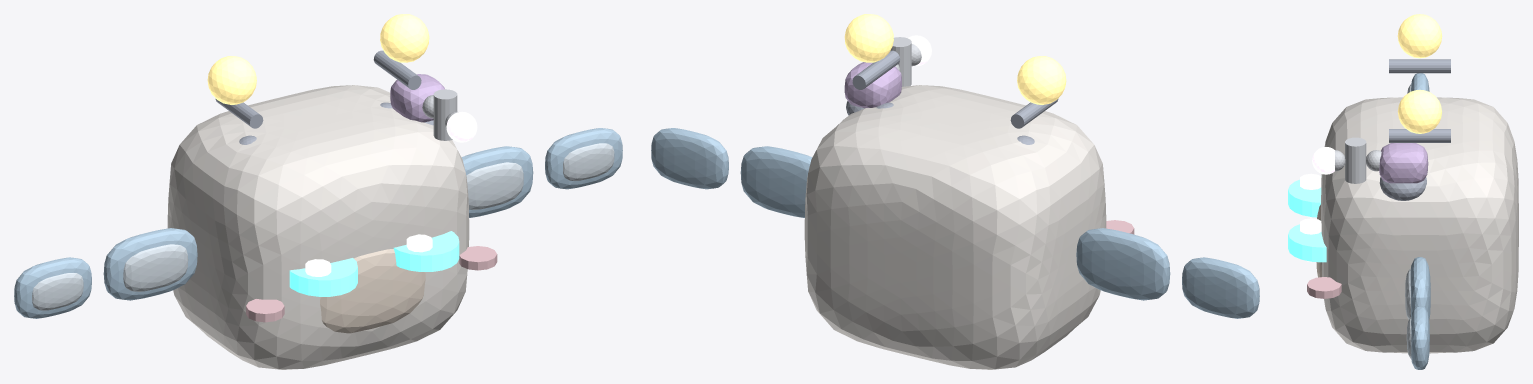
Rendered from pet_stage3_laser.glb.
3 renders of one model, left to right at view 1: azimuth 30°, elevation 25°; view 2: azimuth 150°, elevation 25°; view 3: azimuth 270°, elevation 25°, orthographic. The views are drawn at different scales.
Visible parts, largest first — view 1: d1, d2, d18, d19, d20, d24, d23, d17, d14, d22, d3, d6 (+9 smaller); view 2: d1, d18, d22, d20, d24, d17, d14, d28, d29, d16, d13; view 3: d1, d28, d14, d17, d29, d24, d6, d22, d13, d3, d16, d27 (+6 smaller).
Boxes of the visible parts, <box> form: d1: <box>167,85,469,369</box>; d2: <box>320,249,425,333</box>; d18: <box>103,228,197,300</box>; d19: <box>123,244,188,291</box>; d20: <box>14,257,91,318</box>; d24: <box>545,128,622,189</box>; d23: <box>466,162,523,209</box>; d17: <box>380,14,429,62</box>; d14: <box>207,56,256,104</box>; d22: <box>461,146,533,217</box>; d3: <box>289,258,357,296</box>; d6: <box>393,231,459,271</box>; d1: <box>804,85,1106,369</box>; d18: <box>1076,228,1170,300</box>; d22: <box>740,146,812,217</box>; d20: <box>1182,257,1259,318</box>; d24: <box>651,128,728,189</box>; d17: <box>844,14,893,62</box>; d14: <box>1017,56,1066,104</box>; d28: <box>844,62,901,108</box>; d29: <box>890,37,921,86</box>; d16: <box>852,50,900,89</box>; d13: <box>1010,99,1058,128</box>; d1: <box>1321,97,1518,353</box>; d28: <box>1379,143,1428,183</box>; d14: <box>1397,14,1442,58</box>; d17: <box>1397,89,1441,133</box>; d29: <box>1335,137,1381,183</box>; d24: <box>1411,306,1429,369</box>; d6: <box>1288,224,1326,262</box>; d22: <box>1410,257,1430,319</box>; d13: <box>1389,59,1450,73</box>; d3: <box>1288,176,1321,217</box>; d16: <box>1389,129,1450,142</box>; d27: <box>1379,177,1426,200</box>.
Bounding box in the file's own units: 0.764 × 0.3711 × 0.28.
